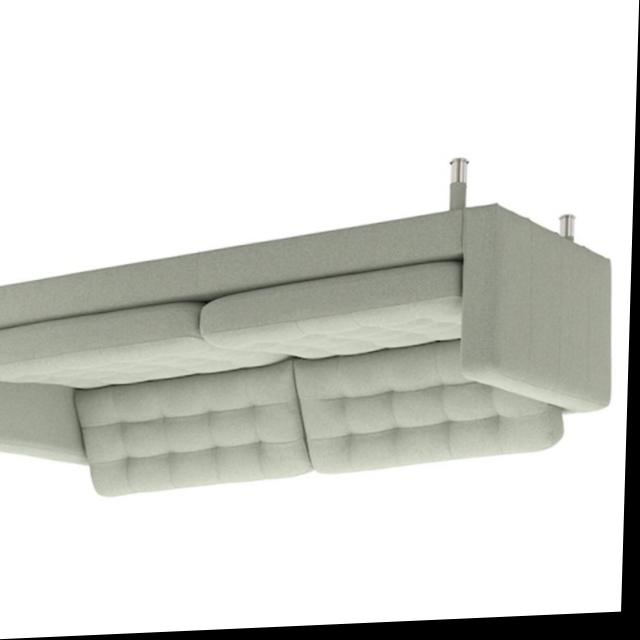Sofa: (0, 158, 625, 503)
